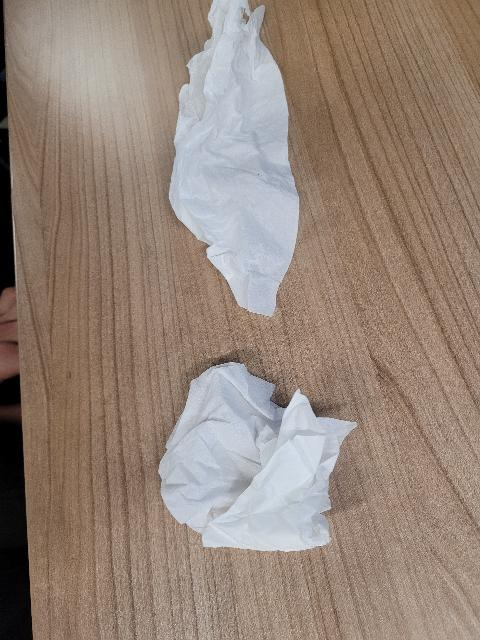Plastik: (171, 0, 294, 323), (165, 373, 354, 562)
